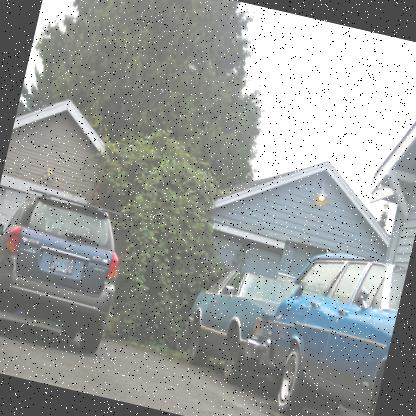Car: (241, 240, 408, 415), (0, 189, 135, 361), (176, 262, 303, 394)
